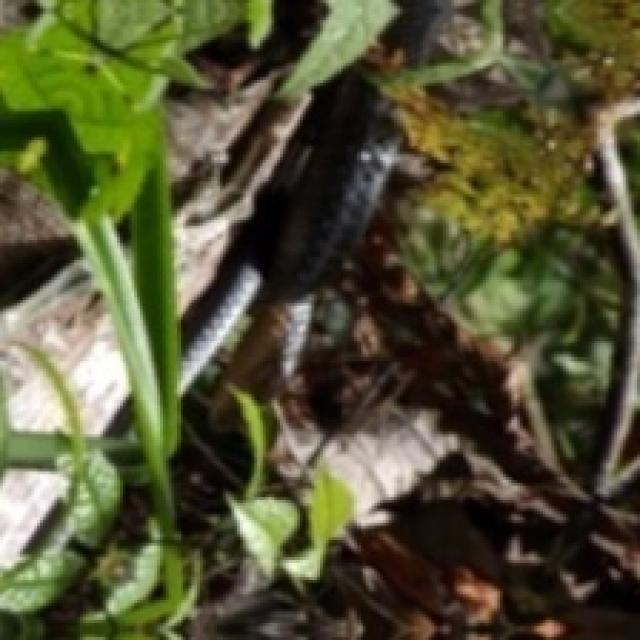king cobra: (182, 65, 400, 432), (385, 0, 449, 63)
